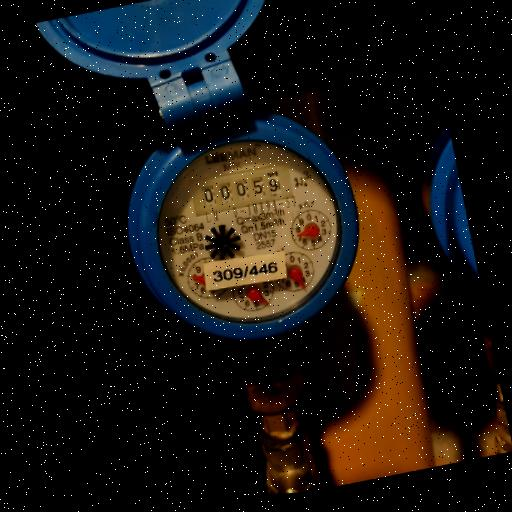0: (202, 184, 217, 207), (235, 179, 250, 202), (218, 182, 233, 204)
5: (250, 176, 265, 198)
9: (265, 170, 282, 196)
border_water_meter_number: (187, 162, 295, 218)
